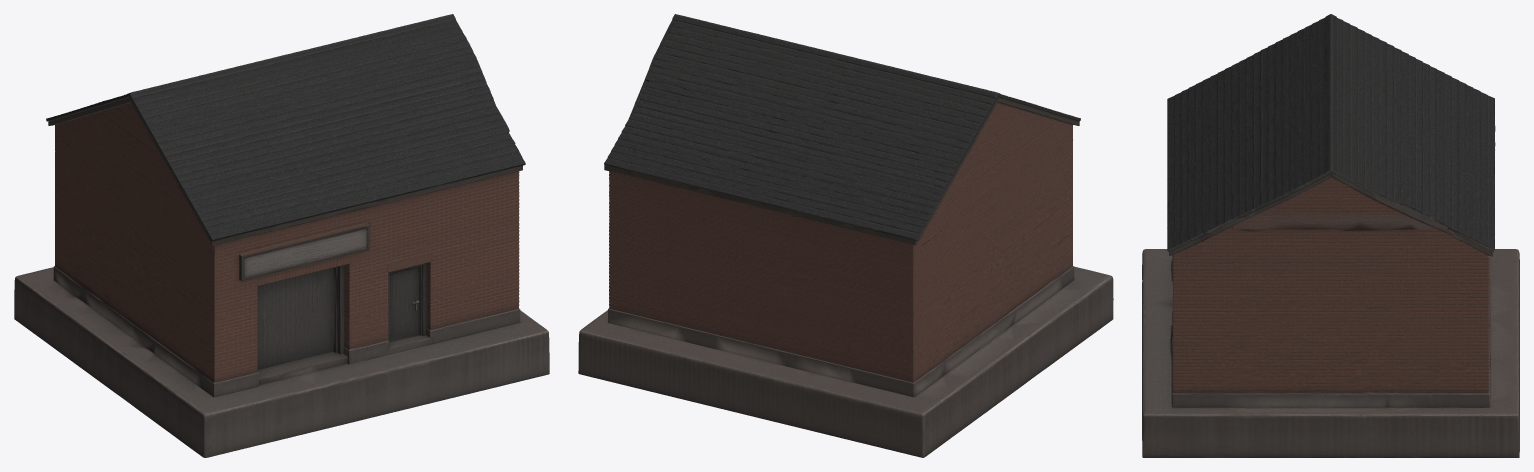
The model's file is dock-ice-house.glb.
The picture shows the model from 3 angles, left to right: view 1: azimuth 30°, elevation 25°; view 2: azimuth 150°, elevation 25°; view 3: azimuth 270°, elevation 25°; orthographic projection.
Size of the model in its own units: 9.96 by 8 by 9.52.
Materials: 3 (3 with a texture image).
